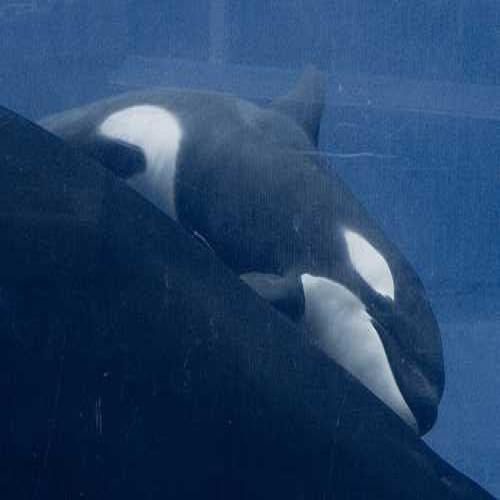killer_whale-endangered: (26, 58, 458, 444)
